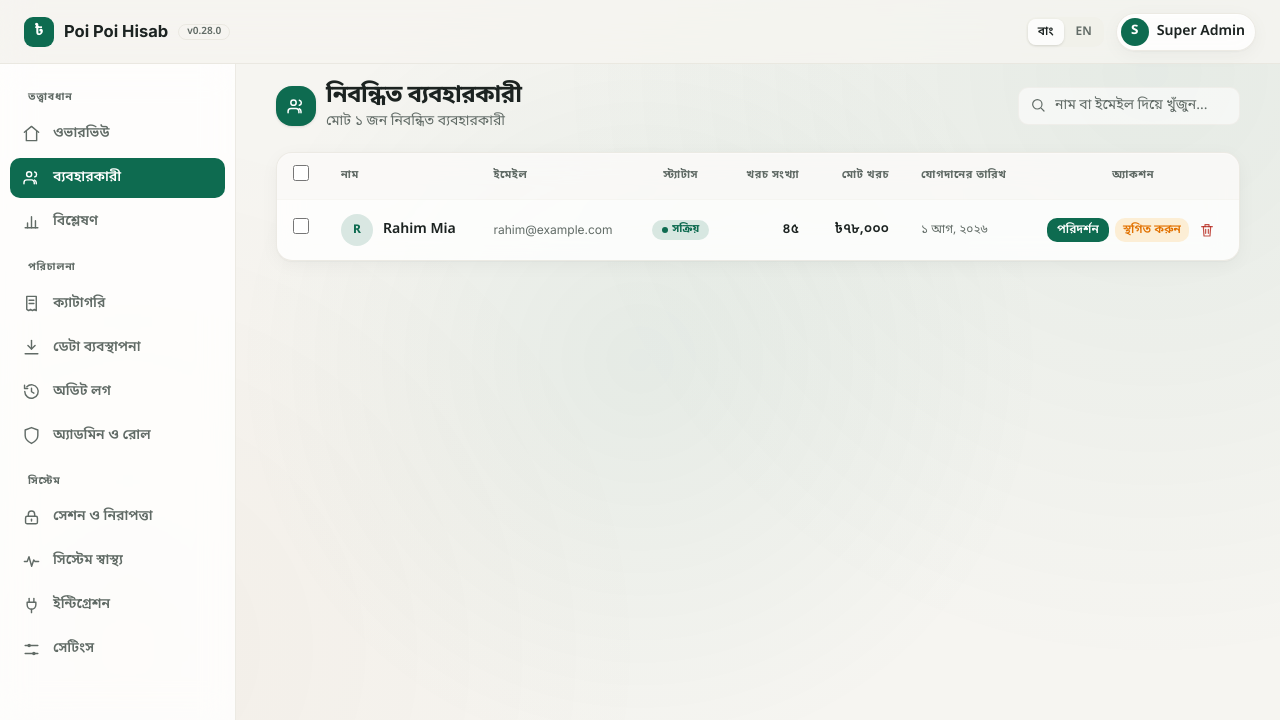
/admin/users › drops selections made on stale rows while a search response is pending
Type "Salma" into the search field at x=1129, y=106, box [1018,87,1240,125]
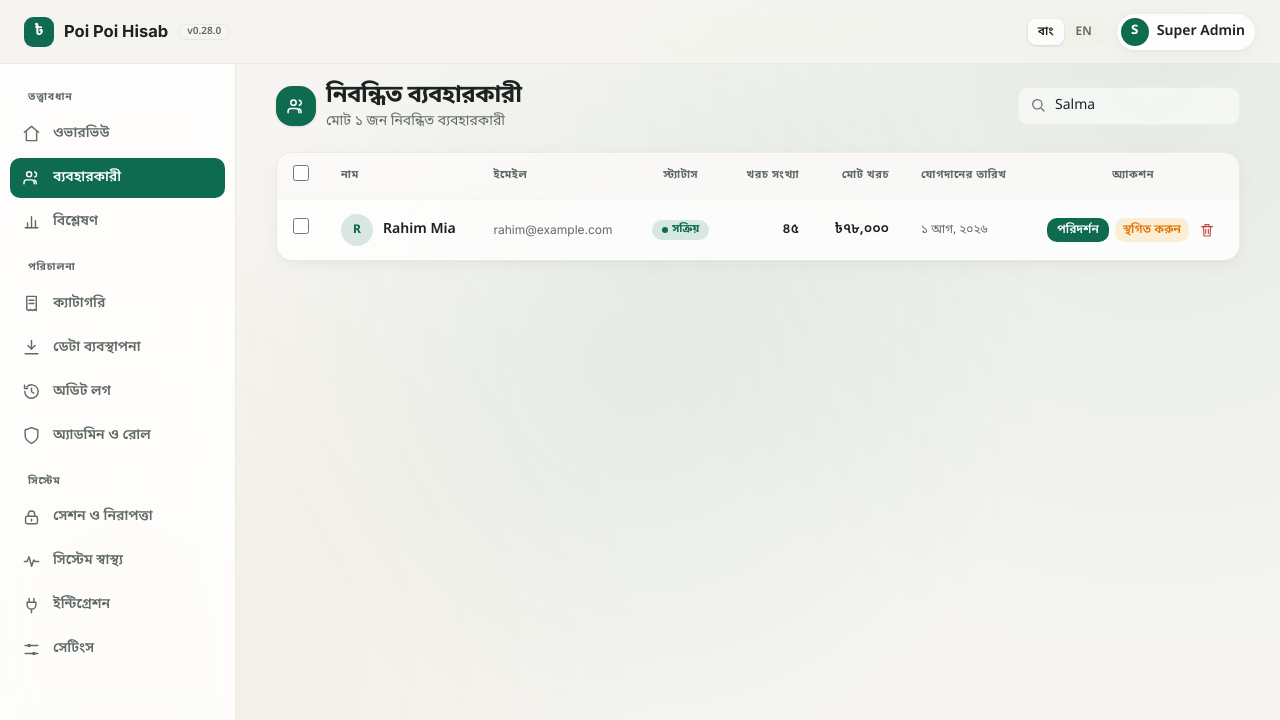
Click the checkbox named "নির্বাচন করুন — Rahim Mia" at x=301, y=226, box [293,218,309,234]
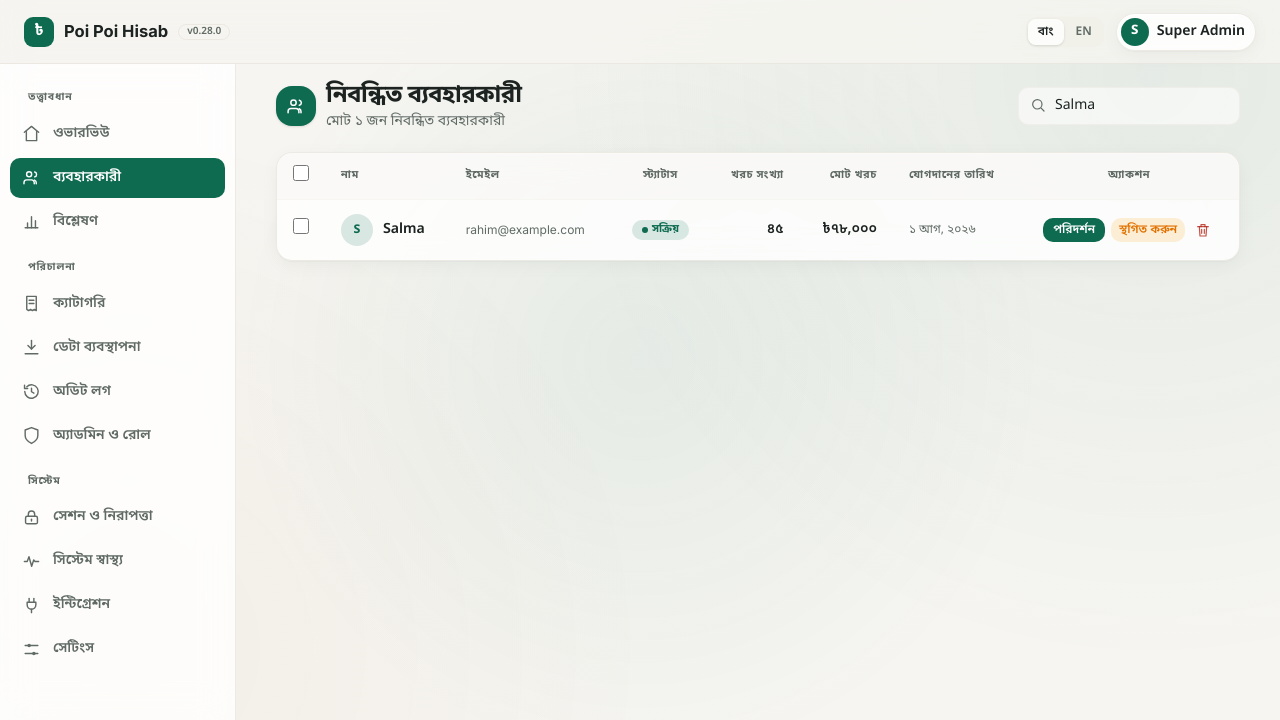
expect the link "Salma" is shown: met, box [383,220,425,240]
